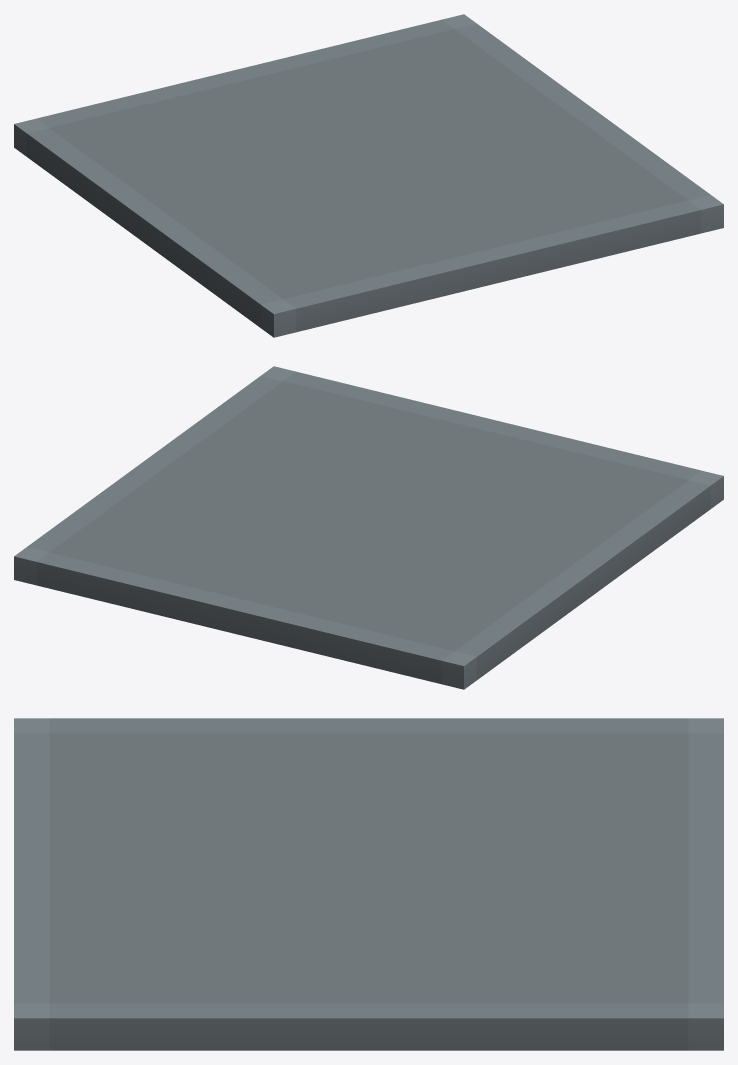
File: floor.glb
3 renders of one model, top to bottom at view 1: azimuth 30°, elevation 25°; view 2: azimuth 150°, elevation 25°; view 3: azimuth 270°, elevation 25°, orthographic. The views are drawn at different scales.
Parts seen in each view (by area): view 1: base; view 2: base; view 3: base.
Boxes of the visible parts, x1,y1,x2,y2 form: base: [14, 14, 723, 337]; base: [14, 366, 723, 689]; base: [14, 718, 723, 1050].
Size of the model in its own units: 2 by 0.1 by 2.
Materials: 1 (1 with a texture image).
